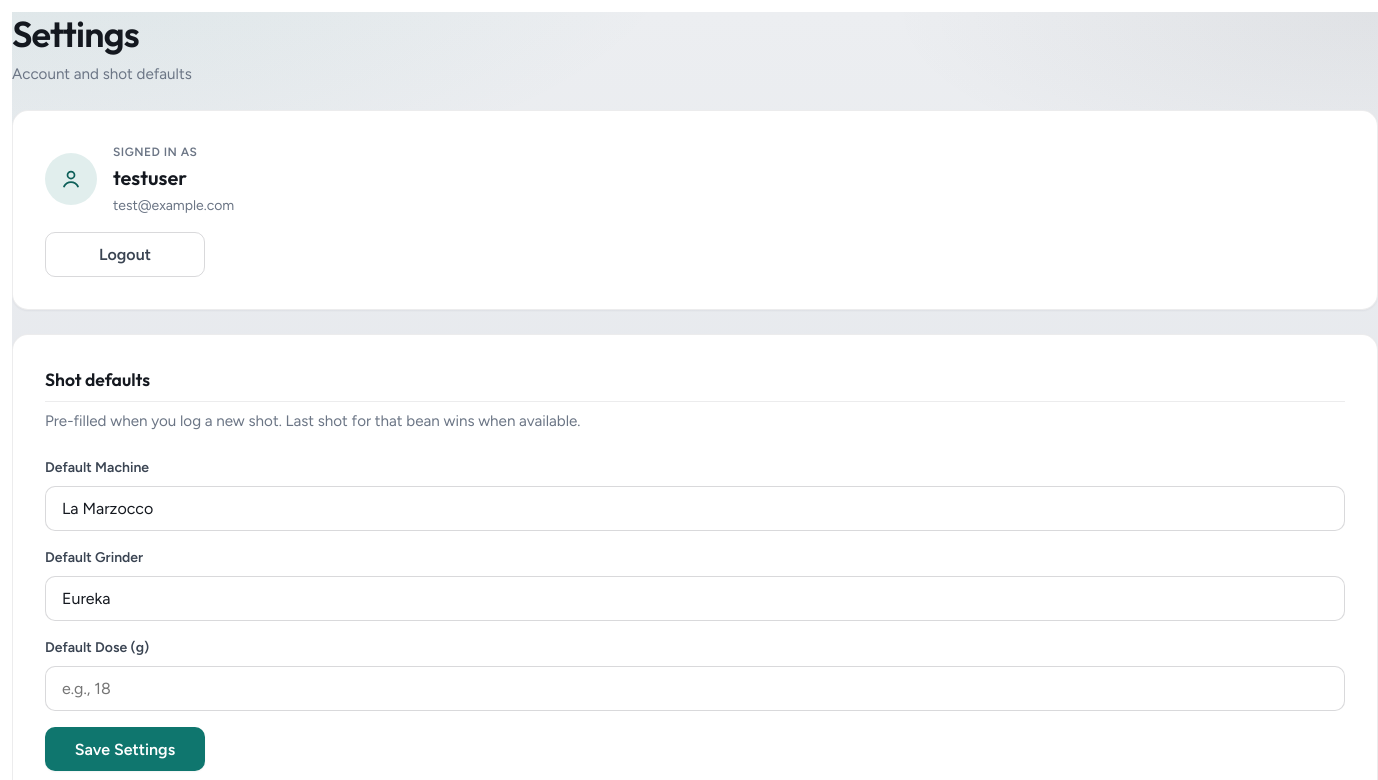
Test: Settings › should update settings
Replace the text in the field labelled "Default Machine" with "Rancilio" at x=695, y=509, box left=45, top=486, right=1345, bottom=531
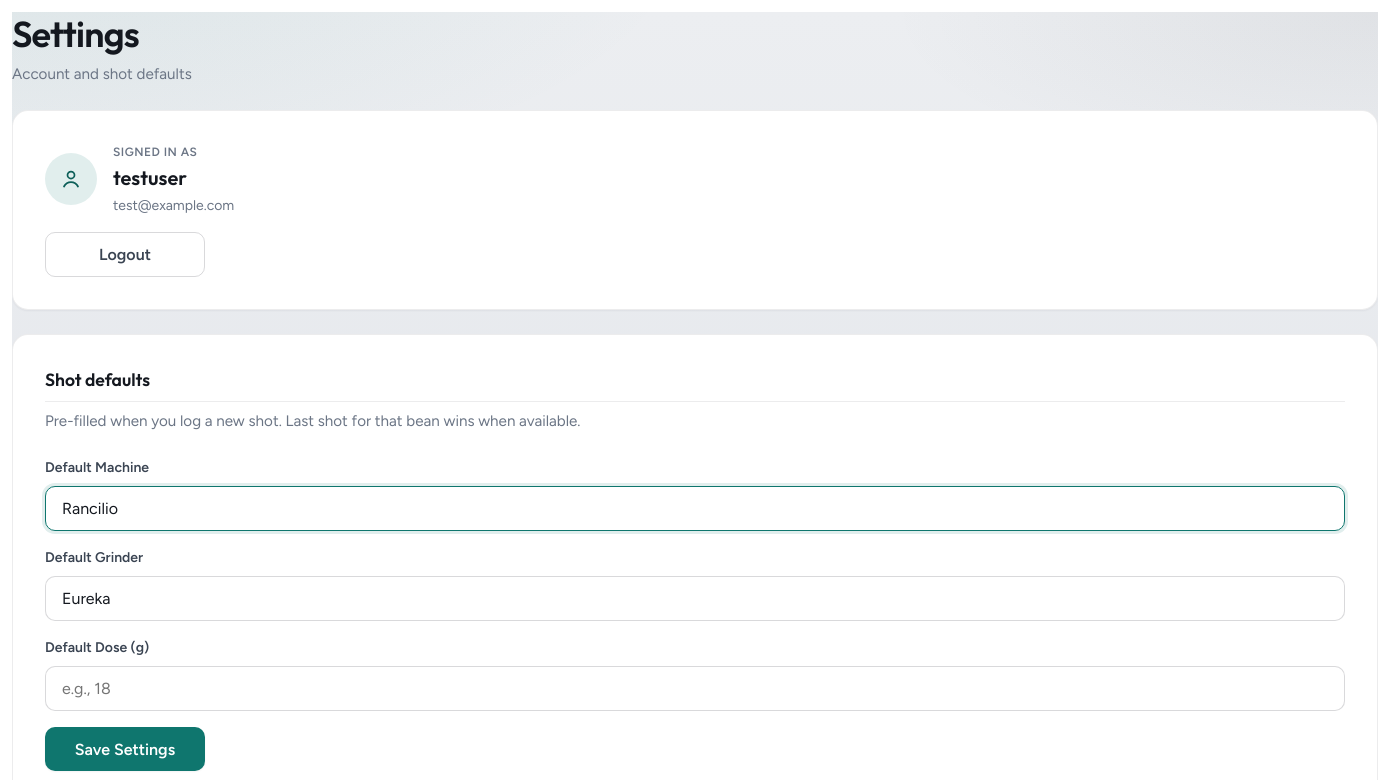
Replace the text in the field labelled "Default Grinder" with "Baratza" at x=695, y=599, box left=45, top=576, right=1345, bottom=621
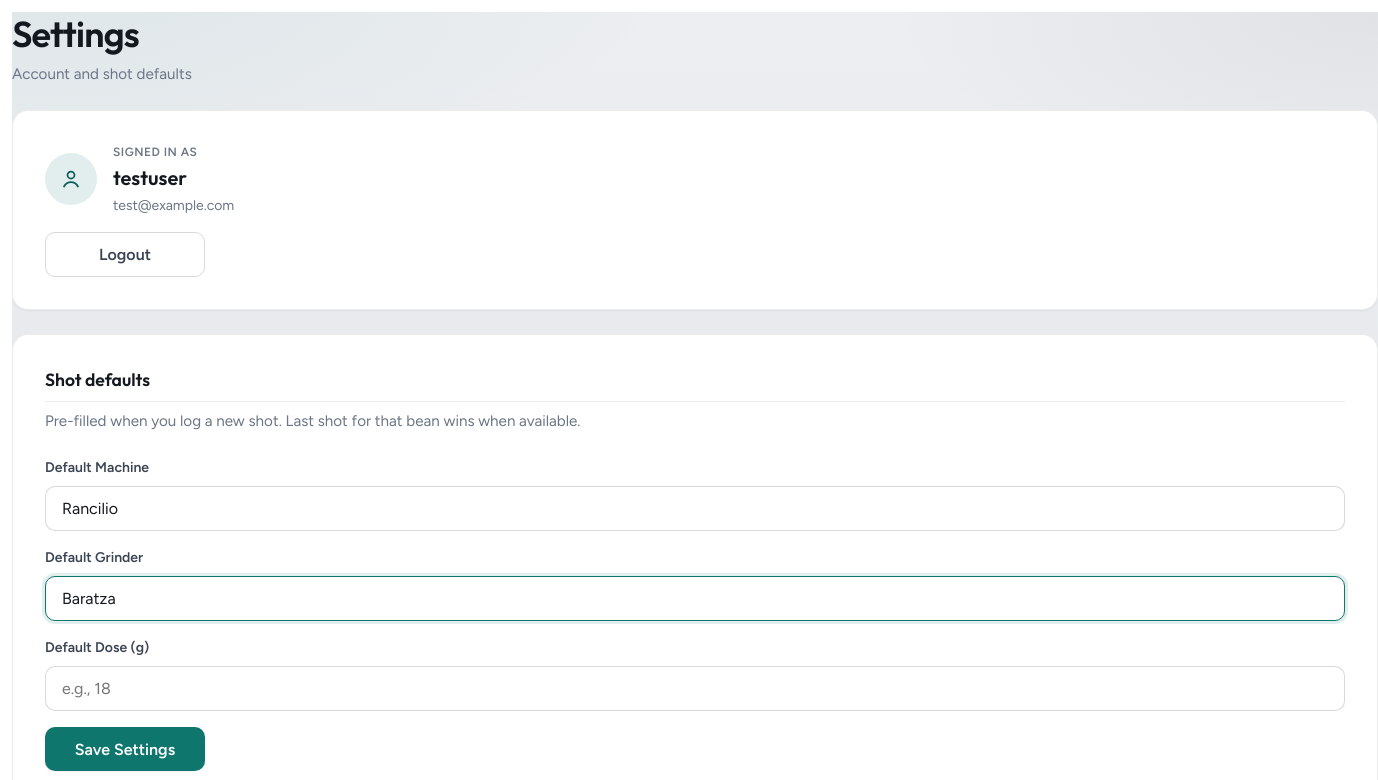
Click the button "Save Settings" at x=125, y=749, box left=45, top=727, right=205, bottom=771
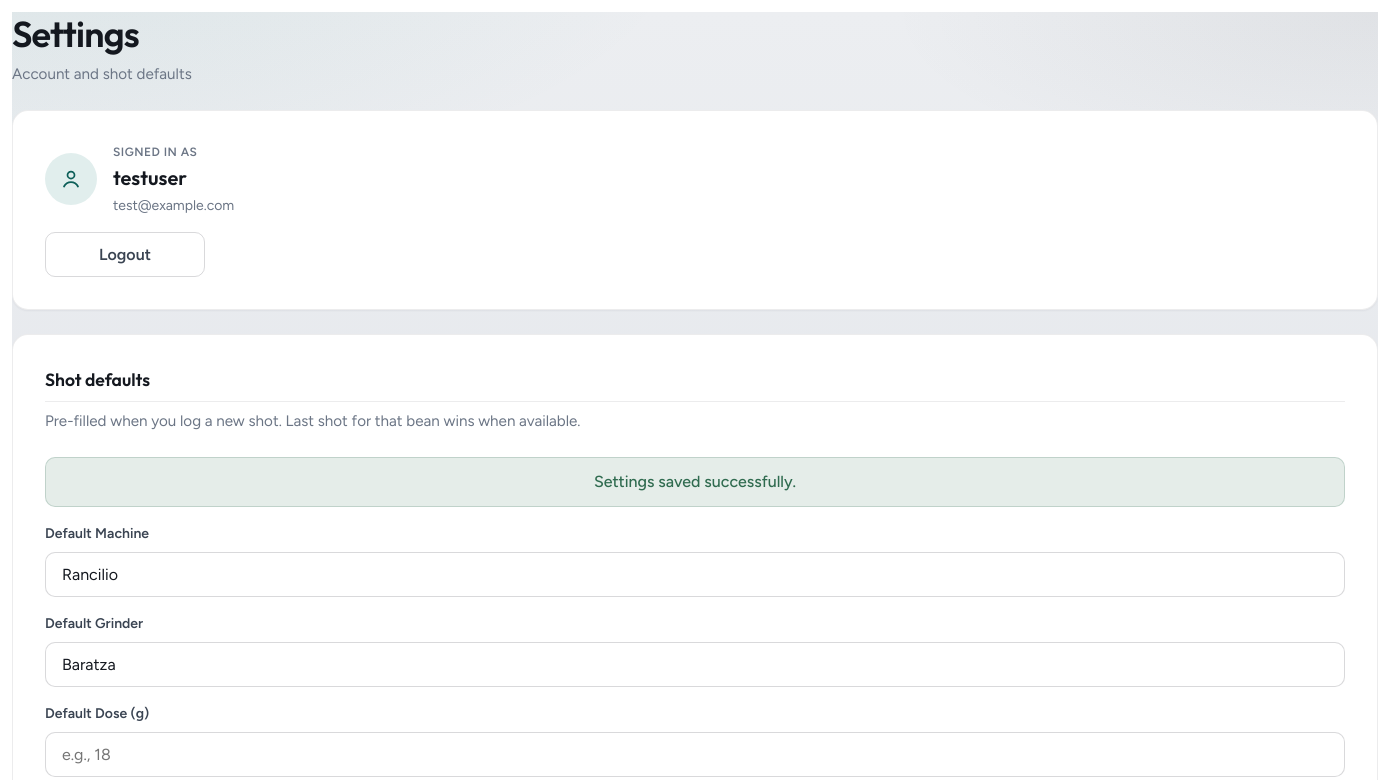
expect the text "Settings saved successfully." is shown: met, box left=45, top=457, right=1345, bottom=507
